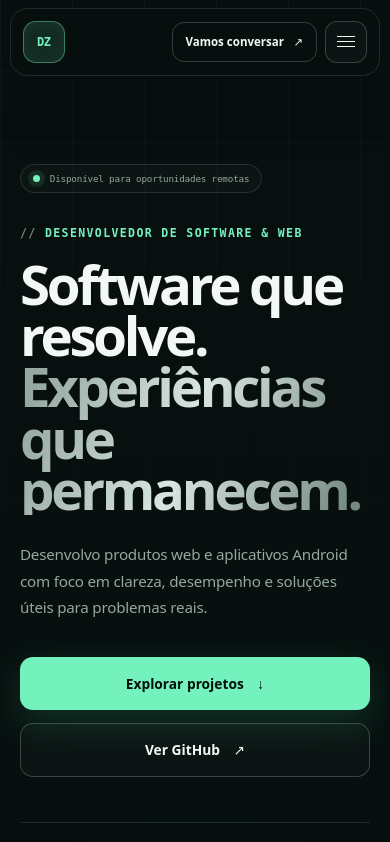
Test case: HomePage › fecha o menu mobile ao selecionar uma opção de navegação
This screenshot has width=390, height=842.
Click the button named "Abrir menu".
click(346, 42)  # box x1=325 y1=21 x2=367 y2=63
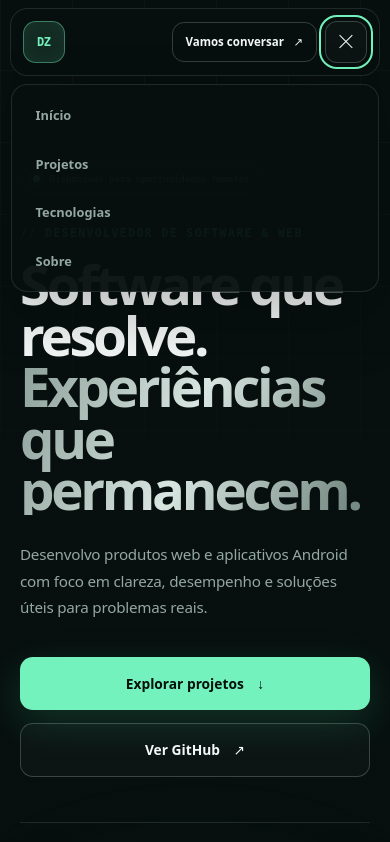
Click the link "Projetos".
click(62, 164)  # box x1=36 y1=155 x2=88 y2=173
(page scrolled)
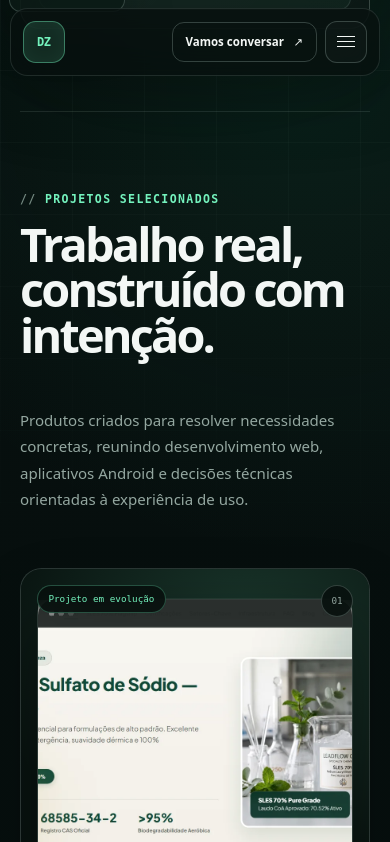
Result: the button named "Abrir menu" is collapsed at x1=325 y1=21 x2=367 y2=63
